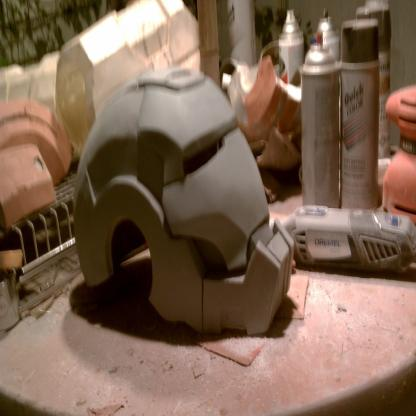Helmet: (74, 63, 303, 336)
